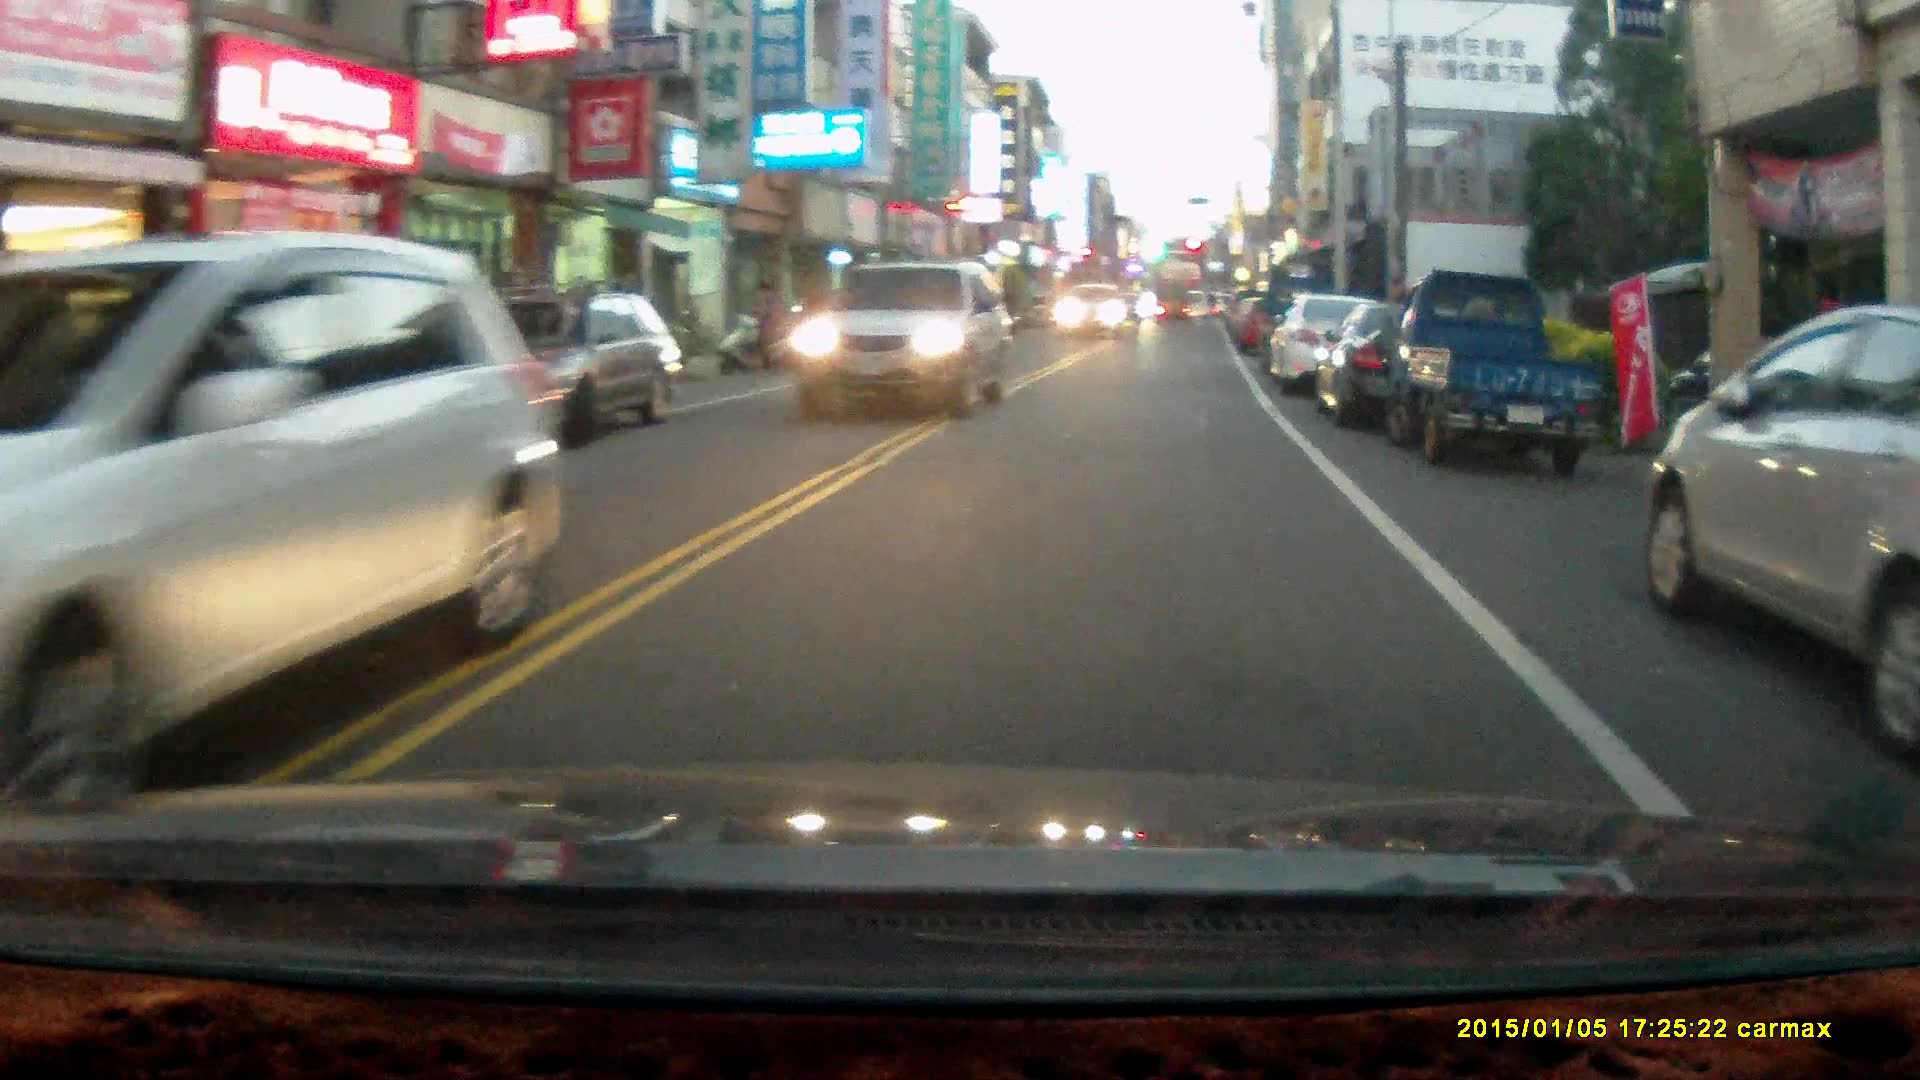pedestrian: (754, 277, 780, 368)
vehicle: (1, 232, 575, 799), (1640, 308, 1920, 710), (1380, 269, 1617, 483), (412, 295, 681, 458), (790, 266, 1015, 426), (1316, 297, 1517, 433), (1263, 293, 1417, 402), (1054, 286, 1137, 347)
